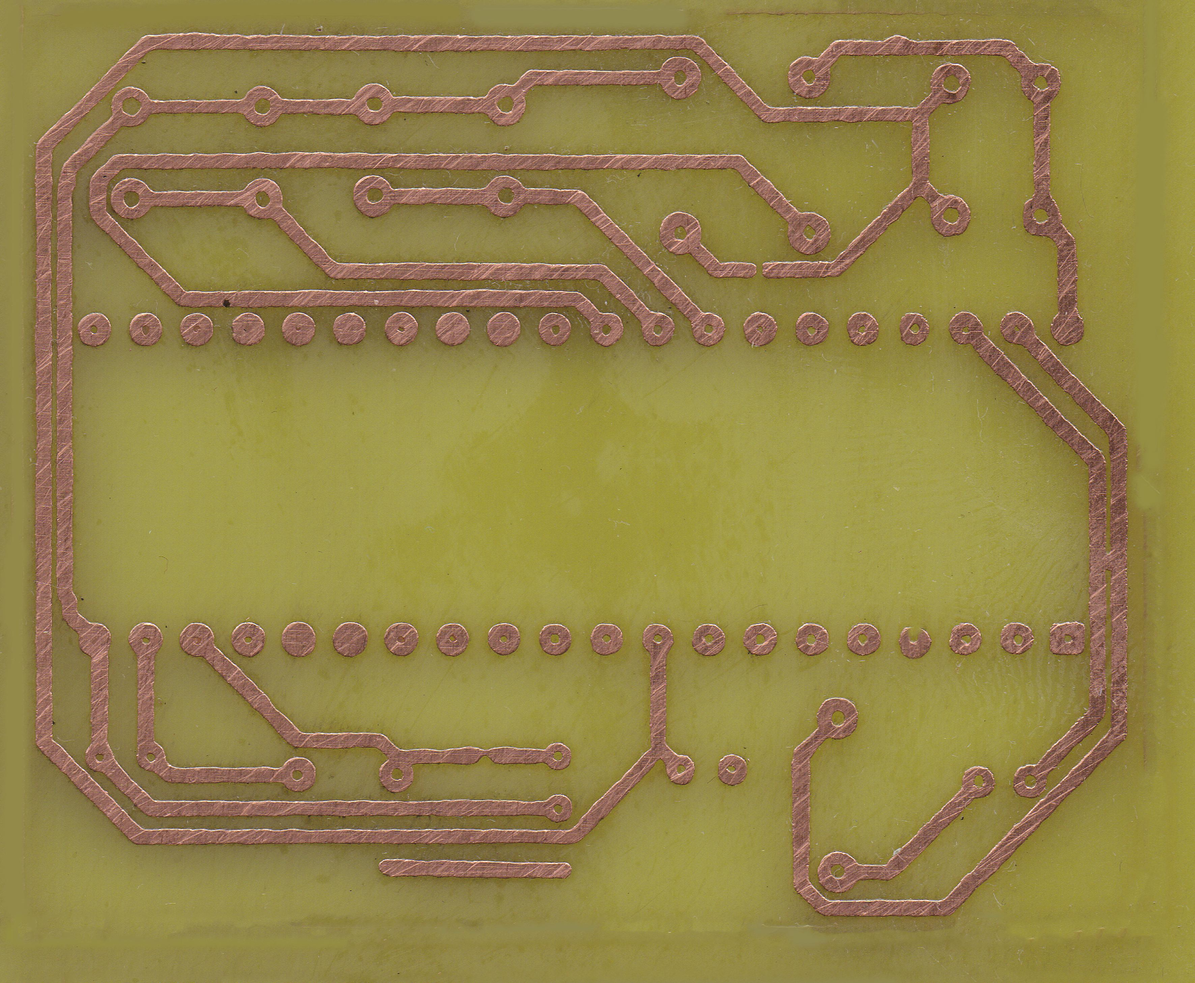missing_hole: (897, 626, 933, 659)
mouse_bite: (470, 745, 501, 767)
open_circuit: (747, 260, 774, 281)
short: (1086, 548, 1130, 577)
spur: (882, 34, 914, 57)
spurious_copper: (373, 856, 574, 884)
